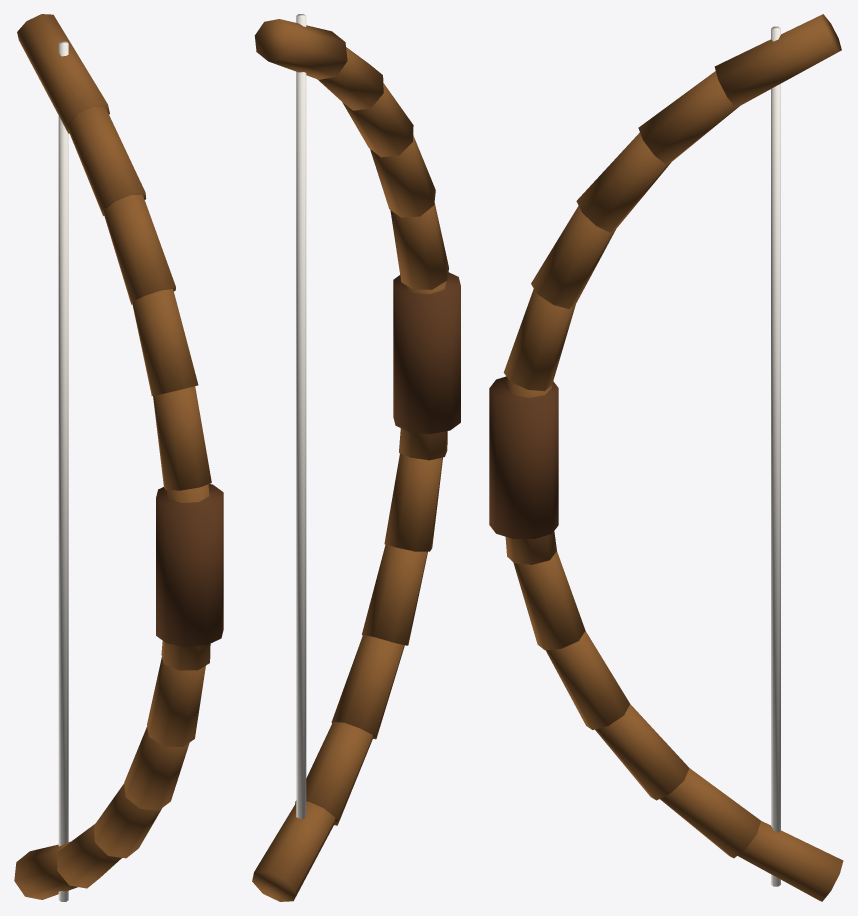
File: bow.glb
The picture shows the model from 3 angles, left to right: view 1: azimuth 30°, elevation 25°; view 2: azimuth 150°, elevation 25°; view 3: azimuth 270°, elevation 25°; orthographic projection.
Visible parts, largest first — view 1: wrap, string, limb.011, limb.008, limb.007, limb.009, limb.010, limb.004, limb.003, limb.002, limb.001, limb (+2 smaller); view 2: wrap, string, limb, limb.003, limb.004, limb.002, limb.011, limb.001, limb.007, limb.008, limb.009, limb.010 (+1 smaller); view 3: wrap, string, limb.011, limb.010, limb.009, limb.008, limb.007, limb.004, limb.003, limb.002, limb.001, limb (+1 smaller).
Boxes of the visible parts, bbox=[...] form: wrap: bbox=[156, 484, 223, 646]; string: bbox=[58, 41, 68, 901]; limb.011: bbox=[17, 14, 109, 133]; limb.008: bbox=[132, 289, 198, 395]; limb.007: bbox=[153, 386, 211, 490]; limb.009: bbox=[104, 194, 175, 304]; limb.010: bbox=[68, 106, 146, 215]; limb.004: bbox=[147, 657, 205, 746]; limb.003: bbox=[124, 726, 189, 810]; limb.002: bbox=[94, 783, 161, 858]; limb.001: bbox=[57, 824, 121, 888]; limb: bbox=[14, 841, 77, 899]; wrap: bbox=[393, 272, 460, 434]; string: bbox=[296, 14, 306, 818]; limb: bbox=[252, 801, 335, 901]; limb.003: bbox=[362, 544, 427, 645]; limb.004: bbox=[384, 453, 442, 551]; limb.002: bbox=[331, 635, 404, 739]; limb.011: bbox=[254, 19, 347, 79]; limb.001: bbox=[295, 722, 373, 825]; limb.007: bbox=[390, 203, 448, 289]; limb.008: bbox=[370, 135, 435, 217]; limb.009: bbox=[342, 83, 413, 157]; limb.010: bbox=[317, 47, 383, 110]; wrap: bbox=[489, 376, 558, 538]; string: bbox=[771, 26, 780, 886]; limb.011: bbox=[714, 14, 841, 107]; limb.010: bbox=[638, 71, 739, 164]; limb.009: bbox=[576, 132, 671, 232]; limb.008: bbox=[531, 206, 615, 308]; limb.007: bbox=[503, 288, 575, 391]; limb.004: bbox=[513, 551, 585, 649]; limb.003: bbox=[545, 631, 629, 729]; limb.002: bbox=[595, 704, 689, 800]; limb.001: bbox=[660, 768, 760, 858]; limb: bbox=[737, 821, 843, 901].
Bounding box in the file's own units: 0.1046 × 1.55 × 0.5622.
